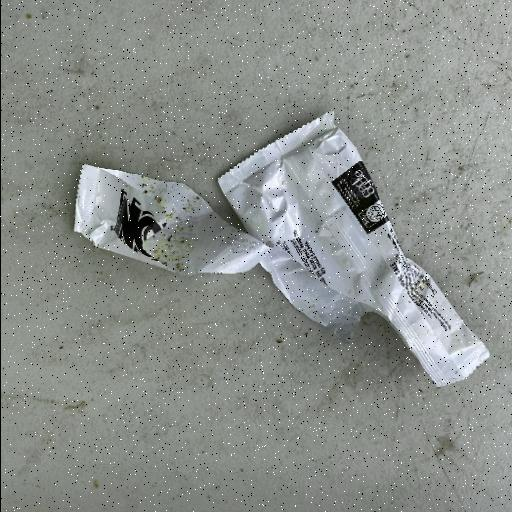Plastic: (72, 108, 492, 388)
